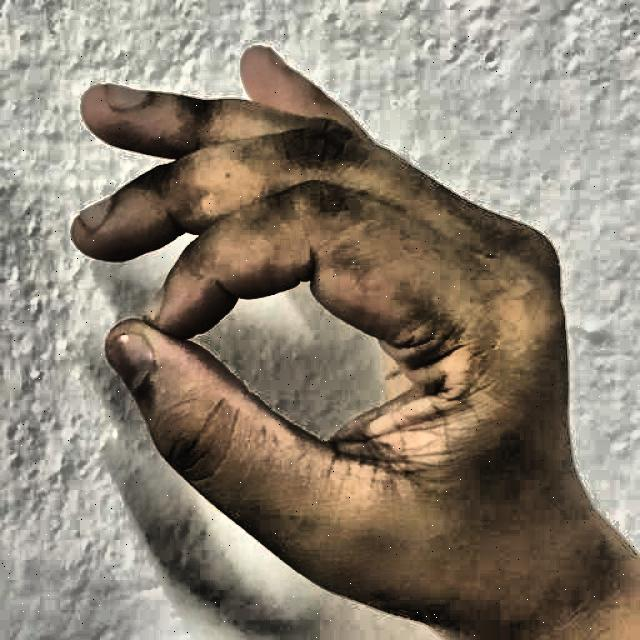Yo: (57, 27, 603, 638)
